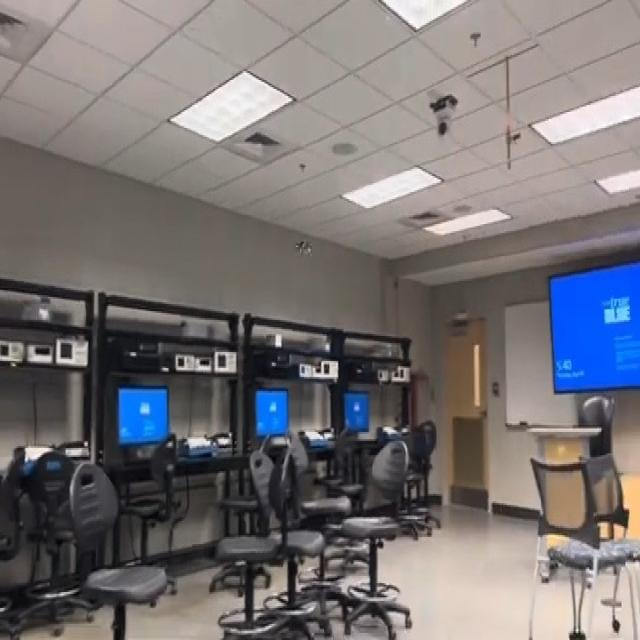drone: (288, 225, 318, 266)
